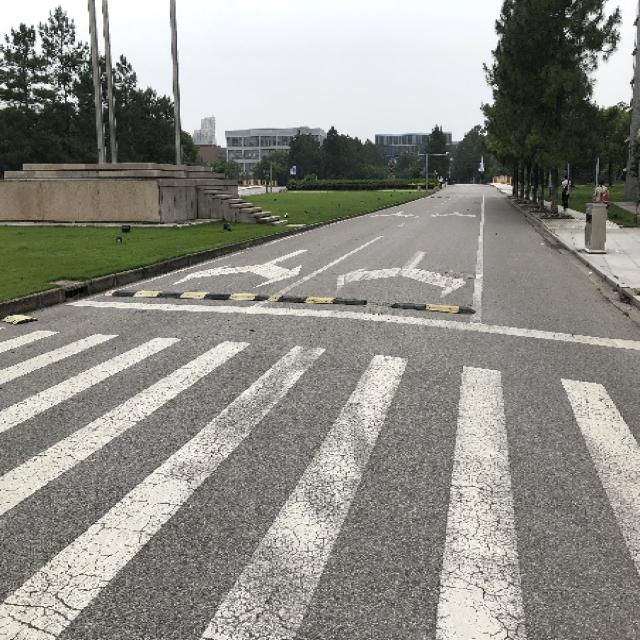Speed Bump: (102, 289, 367, 305), (389, 298, 478, 316)
